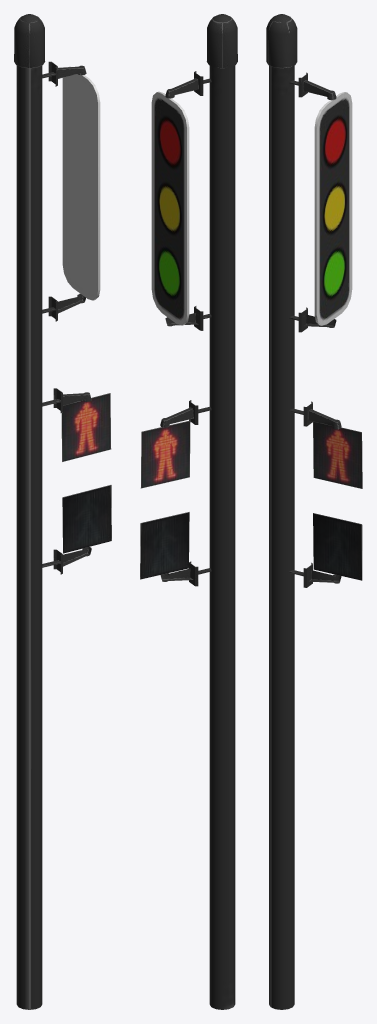
The picture shows the model from 3 angles, left to right: view 1: azimuth 30°, elevation 25°; view 2: azimuth 210°, elevation 25°; view 3: azimuth 330°, elevation 25°; orthographic projection.
Visible parts, largest first — view 1: SM_honglvdeng_05; view 2: SM_honglvdeng_05; view 3: SM_honglvdeng_05.
Part boxes in pixels (bbox=[...]): SM_honglvdeng_05: bbox=[14, 14, 111, 1009]; SM_honglvdeng_05: bbox=[140, 14, 237, 1009]; SM_honglvdeng_05: bbox=[266, 14, 362, 1009].
Bounding box in the file's own units: 1.65 × 16.46 × 1.07.
1 material, 1 textured.
